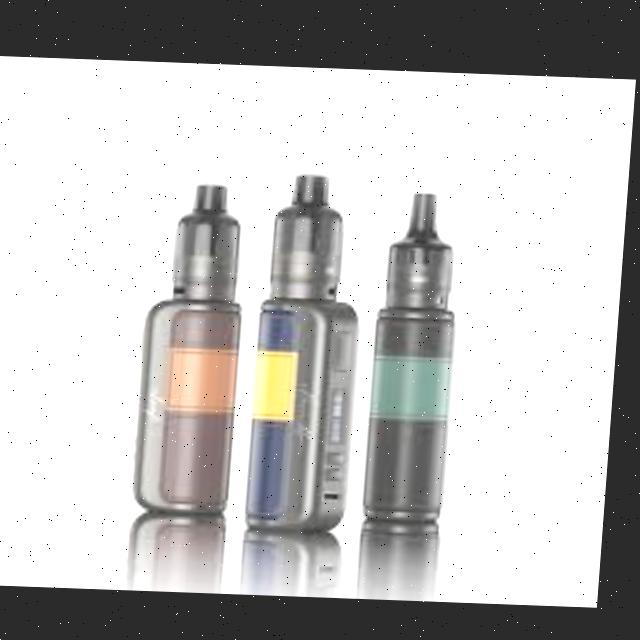vape: (249, 168, 376, 528), (140, 182, 256, 515), (366, 188, 468, 523)
